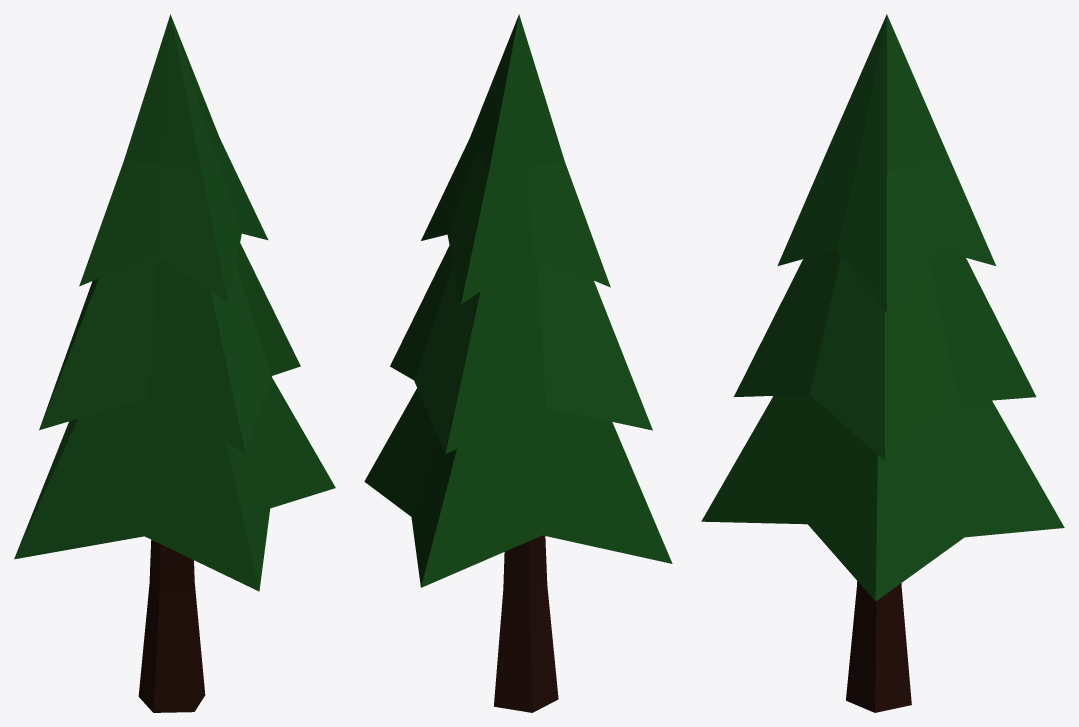
File: arvore01.fbx
The picture shows the model from 3 angles, left to right: view 1: azimuth 30°, elevation 25°; view 2: azimuth 150°, elevation 25°; view 3: azimuth 270°, elevation 25°; orthographic projection.
Visible parts, largest first — view 1: tree01; view 2: tree01; view 3: tree01.
Part boxes in pixels (x1=…): tree01: x1=14, y1=14, x2=335, y2=712; tree01: x1=364, y1=14, x2=672, y2=712; tree01: x1=701, y1=14, x2=1064, y2=712.
Bounding box in the file's own units: 250 × 519 × 250.
